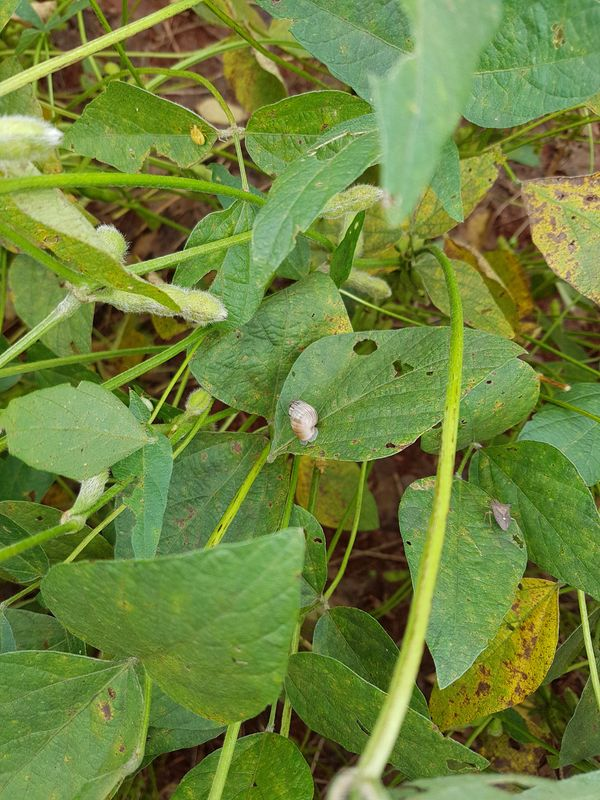Euschistus_heros_adulto: (474, 489, 519, 539)
Euschistus_heros_ninfa: (179, 121, 210, 152)
Gastropoda: (277, 395, 328, 451)
